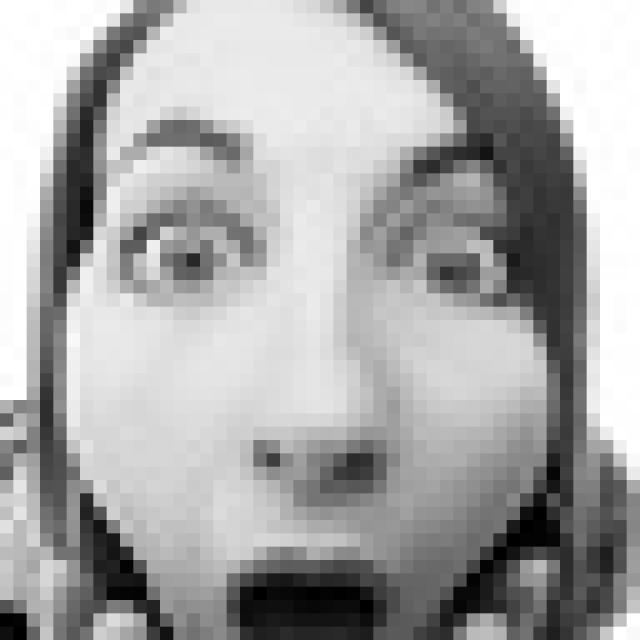surprise: (101, 105, 532, 640)
